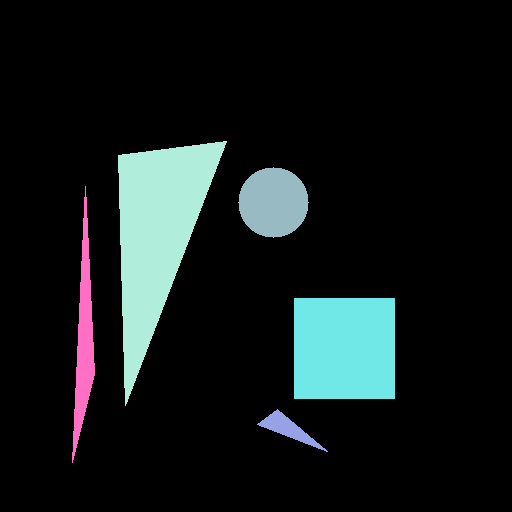circle: (238, 167, 308, 237)
square: (294, 298, 394, 398)
triangle: (118, 141, 226, 405), (72, 186, 94, 462), (257, 409, 327, 451)
